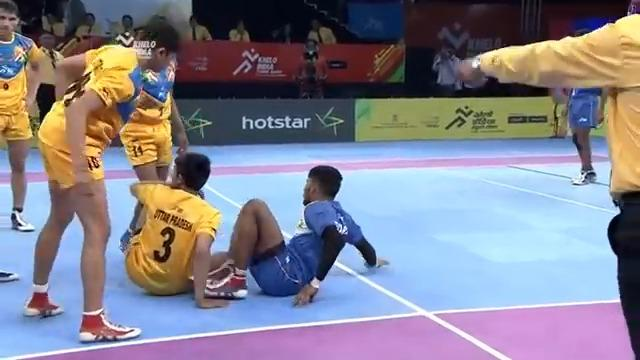Player: (21, 20, 187, 343), (119, 150, 235, 308), (118, 22, 189, 254), (0, 0, 42, 232)
Raider: (203, 164, 389, 307)
referee: (453, 0, 639, 358), (593, 0, 639, 359)
